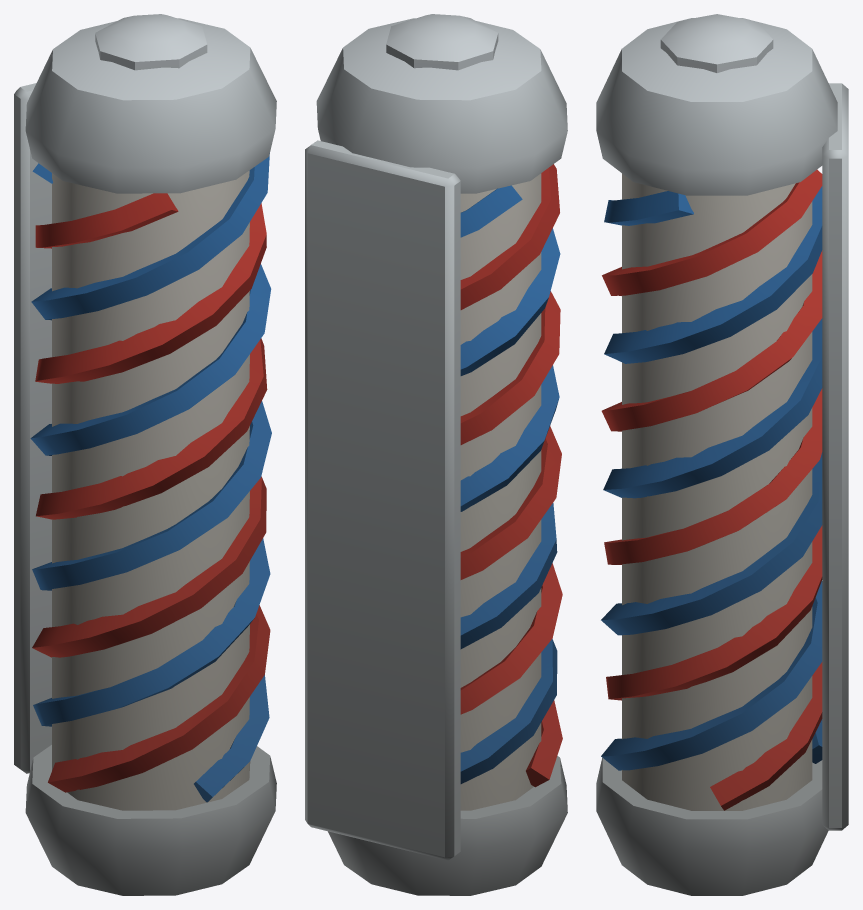
File: 86_enseigne_barbier.fbx
The picture shows the model from 3 angles, left to right: view 1: azimuth 30°, elevation 25°; view 2: azimuth 150°, elevation 25°; view 3: azimuth 270°, elevation 25°; orthographic projection.
Visible parts, largest first — view 1: Support, Cylindre, Rayures; view 2: Support, Rayures, Cylindre; view 3: Support, Cylindre, Rayures.
Boxes of the visible parts, bbox=[...] form: Support: bbox=[14, 14, 276, 895]; Cylindre: bbox=[52, 170, 250, 810]; Rayures: bbox=[30, 153, 271, 802]; Support: bbox=[305, 14, 567, 895]; Rayures: bbox=[460, 164, 562, 787]; Cylindre: bbox=[460, 173, 541, 810]; Support: bbox=[596, 14, 848, 895]; Cylindre: bbox=[622, 173, 812, 810]; Rayures: bbox=[601, 169, 822, 810].
Bounding box in the file's own units: 0.224 × 0.84 × 0.224.
1 material, 1 textured.
